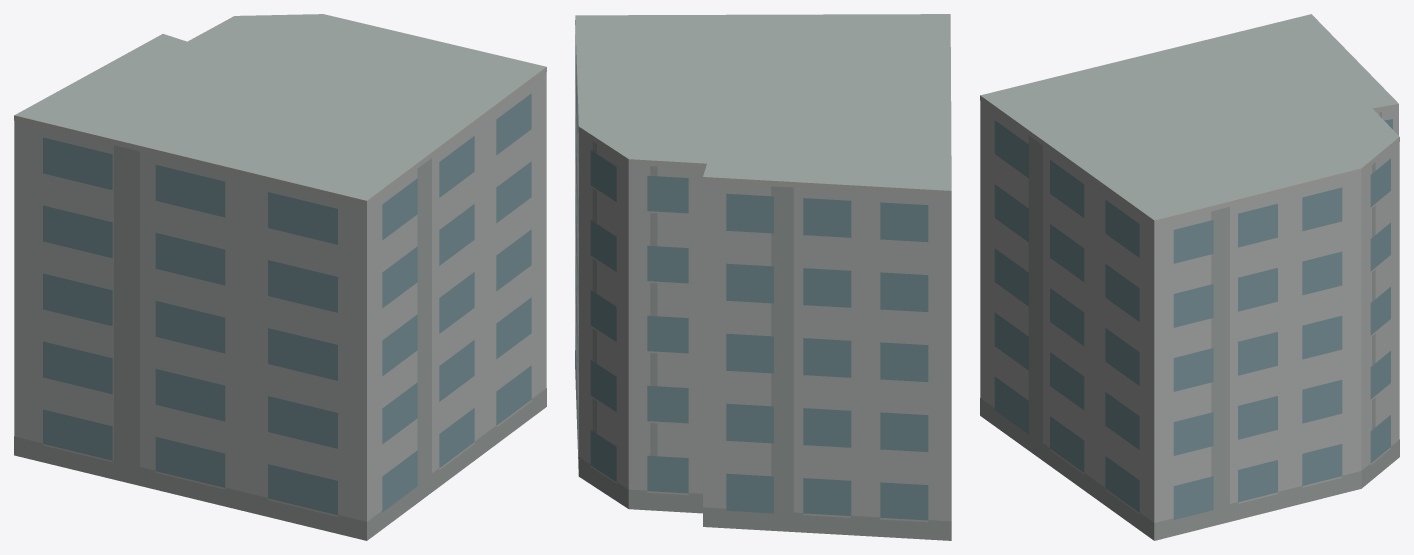
The model's file is survey-upis-32805037.glb.
The picture shows the model from 3 angles, left to right: view 1: azimuth 30°, elevation 25°; view 2: azimuth 150°, elevation 25°; view 3: azimuth 270°, elevation 25°; orthographic projection. The views are drawn at different scales.
Visible parts, largest first — view 1: survey-upis-32805037.tmp; view 2: survey-upis-32805037.tmp; view 3: survey-upis-32805037.tmp.
Boxes of the visible parts, left/top/right/bottom form: survey-upis-32805037.tmp: left=14, top=14, right=546, bottom=540; survey-upis-32805037.tmp: left=575, top=14, right=951, bottom=540; survey-upis-32805037.tmp: left=980, top=14, right=1399, bottom=540.
Bounding box in the file's own units: 20.95 × 15.15 × 17.99.
